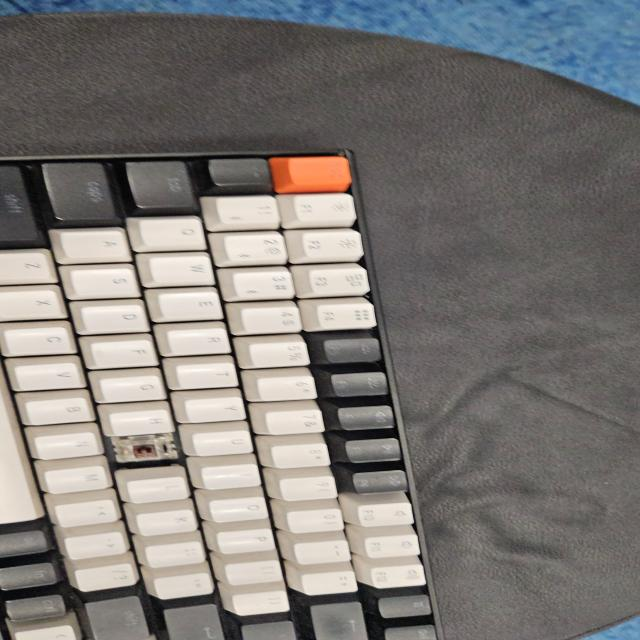C: (114, 438, 178, 462)
